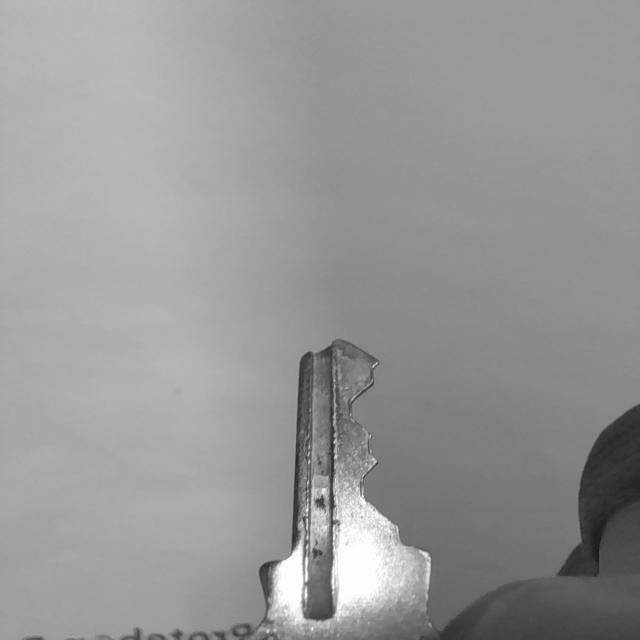KEY: (246, 340, 436, 640)
